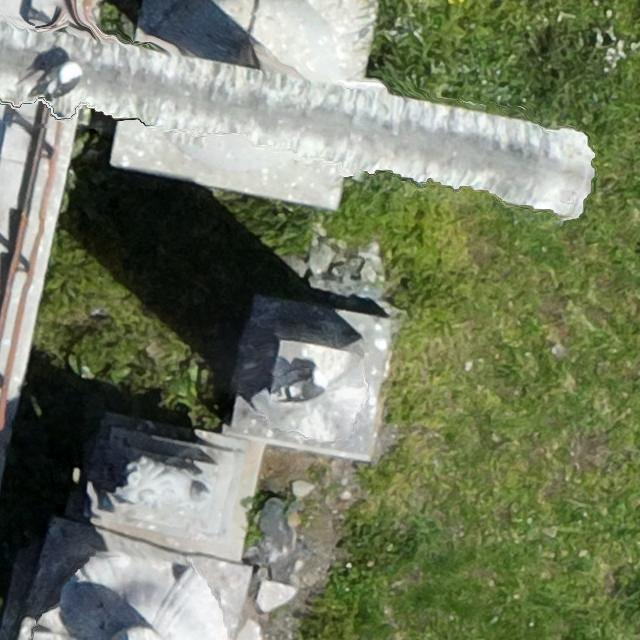umineko: (274, 369, 331, 404), (33, 62, 81, 99)
